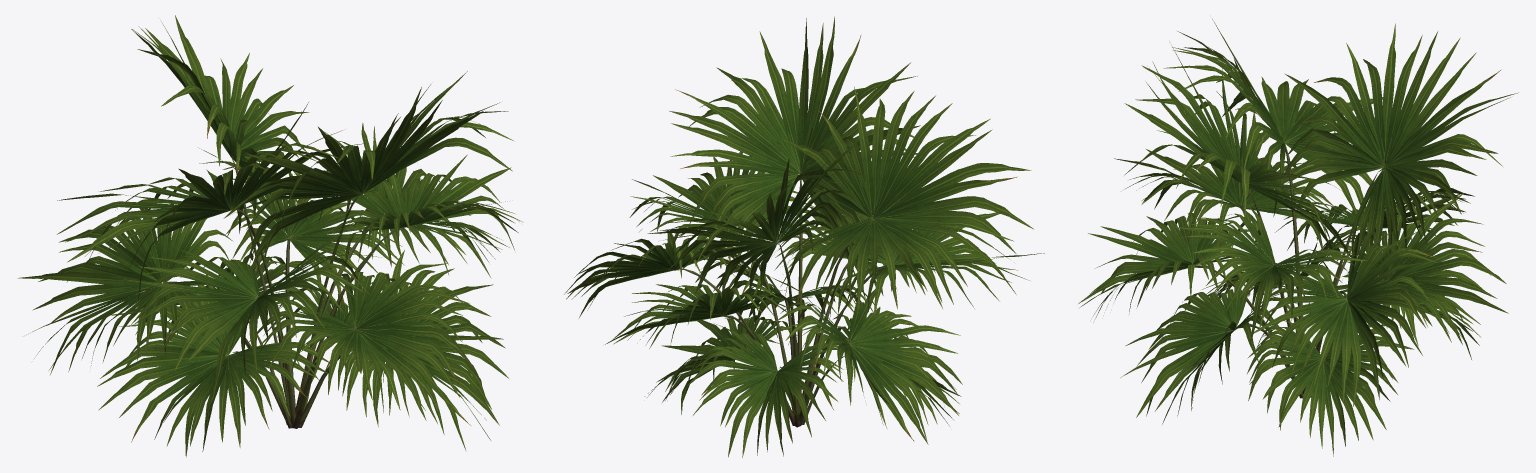
Rendered from loulu_crown.glb.
3 views of the same model, side by side, from view 1: azimuth 30°, elevation 25°; view 2: azimuth 150°, elevation 25°; view 3: azimuth 270°, elevation 25° (orthographic). The views are drawn at different scales.
Parts seen in each view (by area): view 1: LIVISTONA_CHINENSIS; view 2: LIVISTONA_CHINENSIS; view 3: LIVISTONA_CHINENSIS.
Boxes of the visible parts, box(x1,y1,x2,y2) form: LIVISTONA_CHINENSIS: box(18, 15, 523, 457); LIVISTONA_CHINENSIS: box(564, 16, 1044, 457); LIVISTONA_CHINENSIS: box(1078, 19, 1518, 456).
Size of the model in its own units: 1.6 by 1.3 by 1.45.
Materials: 1 (1 with a texture image).
